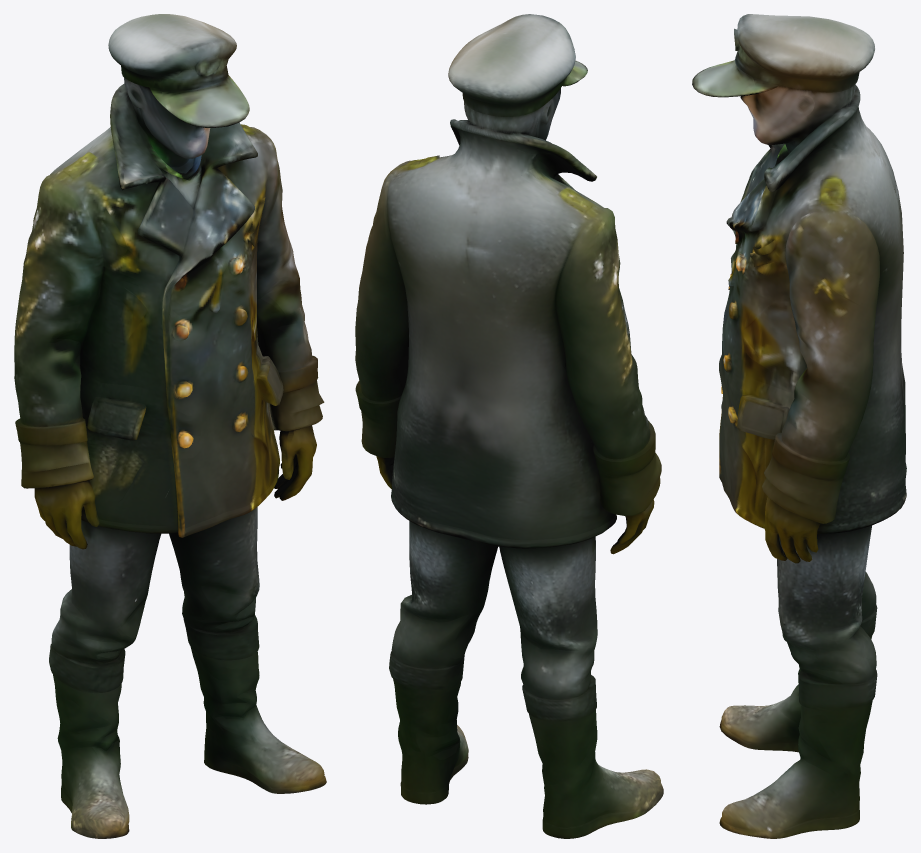
Rendered from base_basic_shaded.fbx.
The picture shows the model from 3 angles, left to right: view 1: azimuth 30°, elevation 25°; view 2: azimuth 150°, elevation 25°; view 3: azimuth 270°, elevation 25°; orthographic projection.
Visible parts, largest first — view 1: model; view 2: model; view 3: model.
Boxes of the visible parts, <box> form: model: <box>14,14,326,838</box>; model: <box>355,14,663,838</box>; model: <box>692,14,906,838</box>.
Size of the model in its own units: 68.91 by 174 by 44.26.
